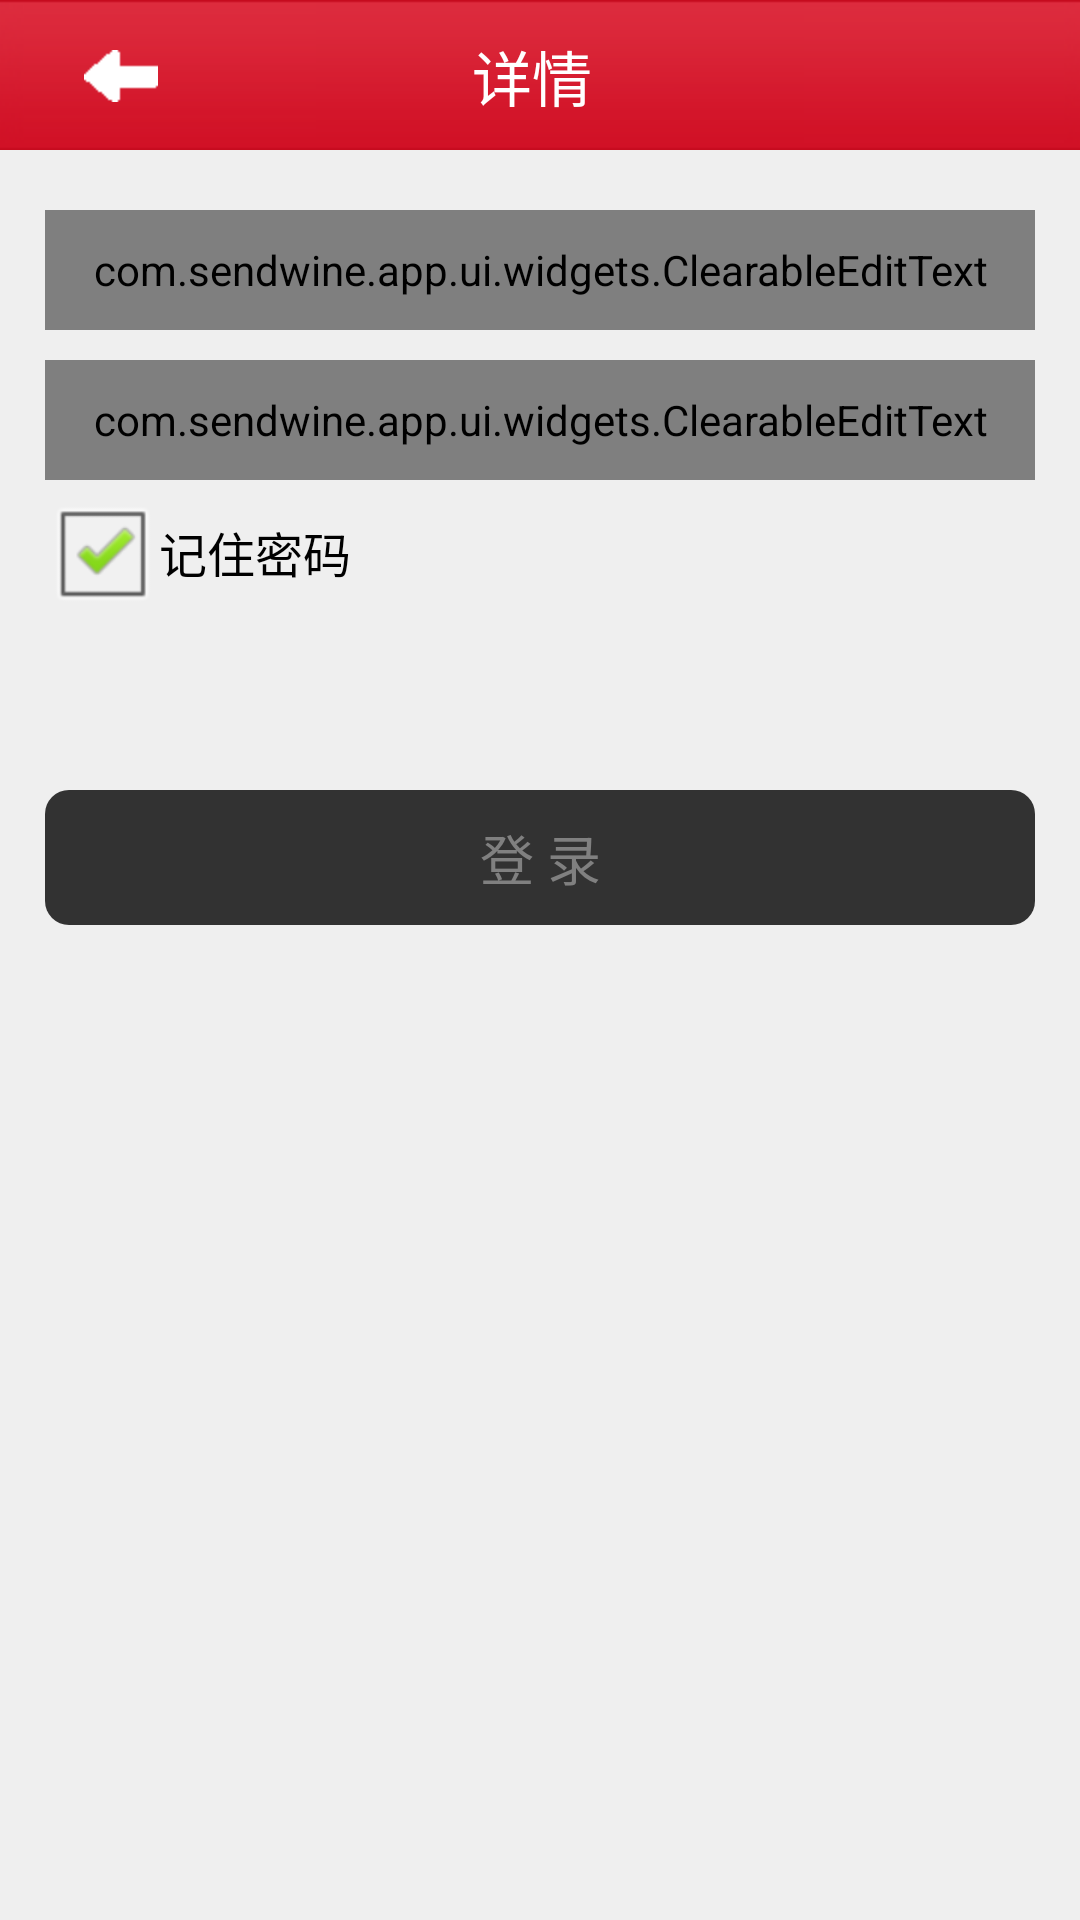

Screen size 1080w x 1920h. Icon name, then its box in pixels as box(x1, y1, x2, y2):
back: box(84, 50, 158, 102)
